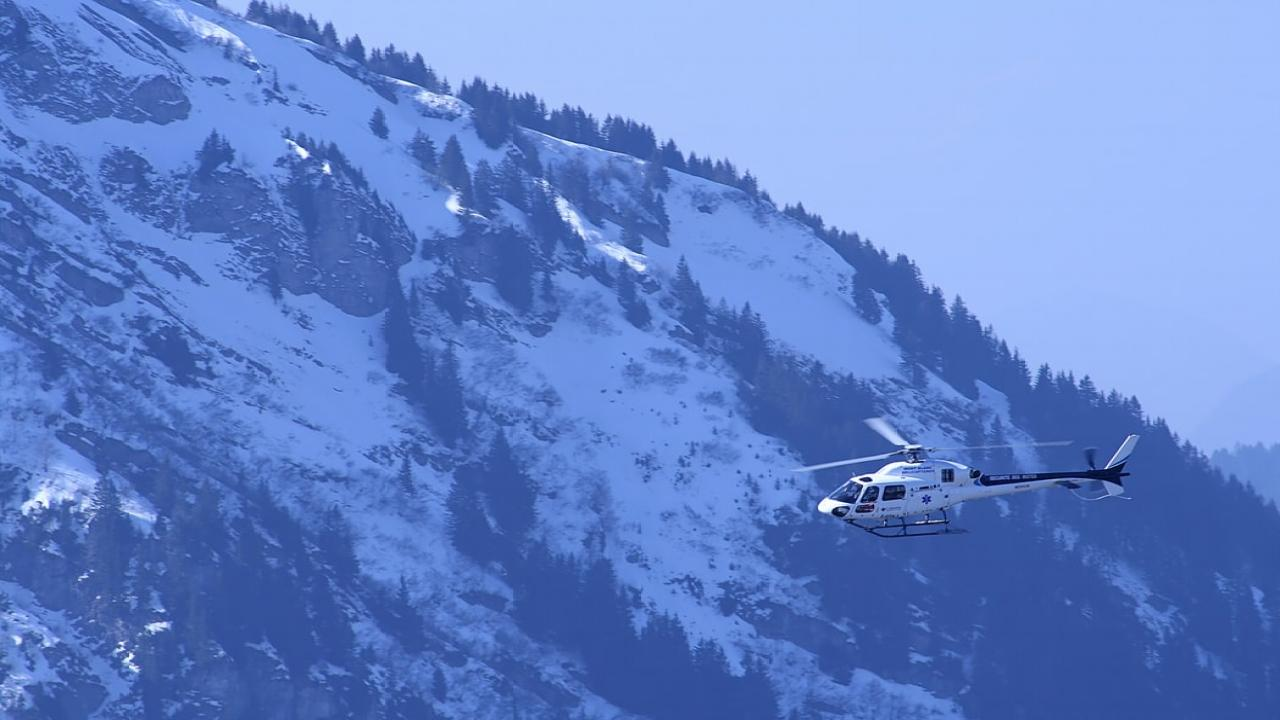Helicopter: (763, 399, 1160, 562)
